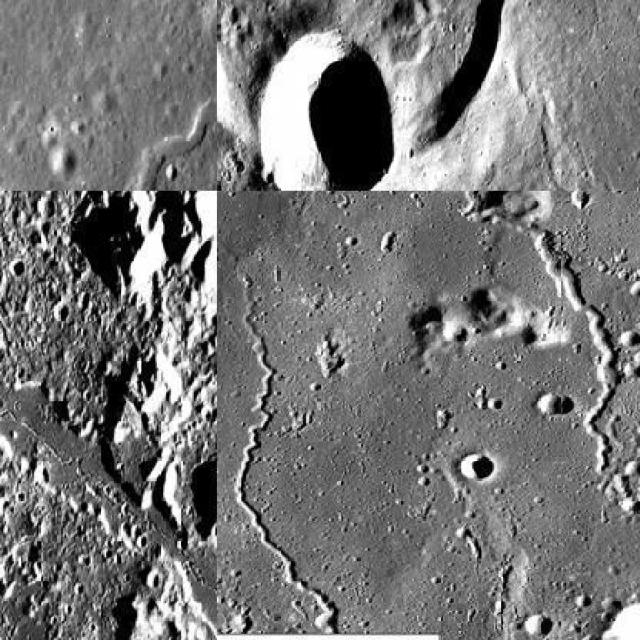rille: (416, 191, 638, 598), (0, 224, 215, 638), (234, 280, 343, 634), (22, 100, 215, 189)
